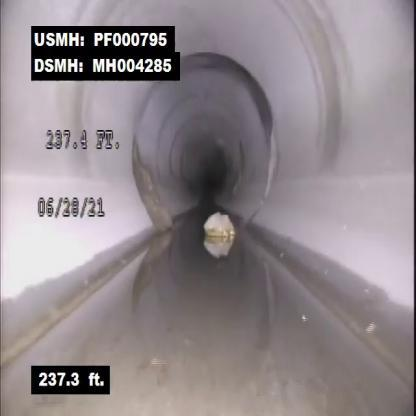jntoffs: (128, 133, 178, 254), (260, 104, 306, 228)
obsc: (190, 205, 251, 262)
